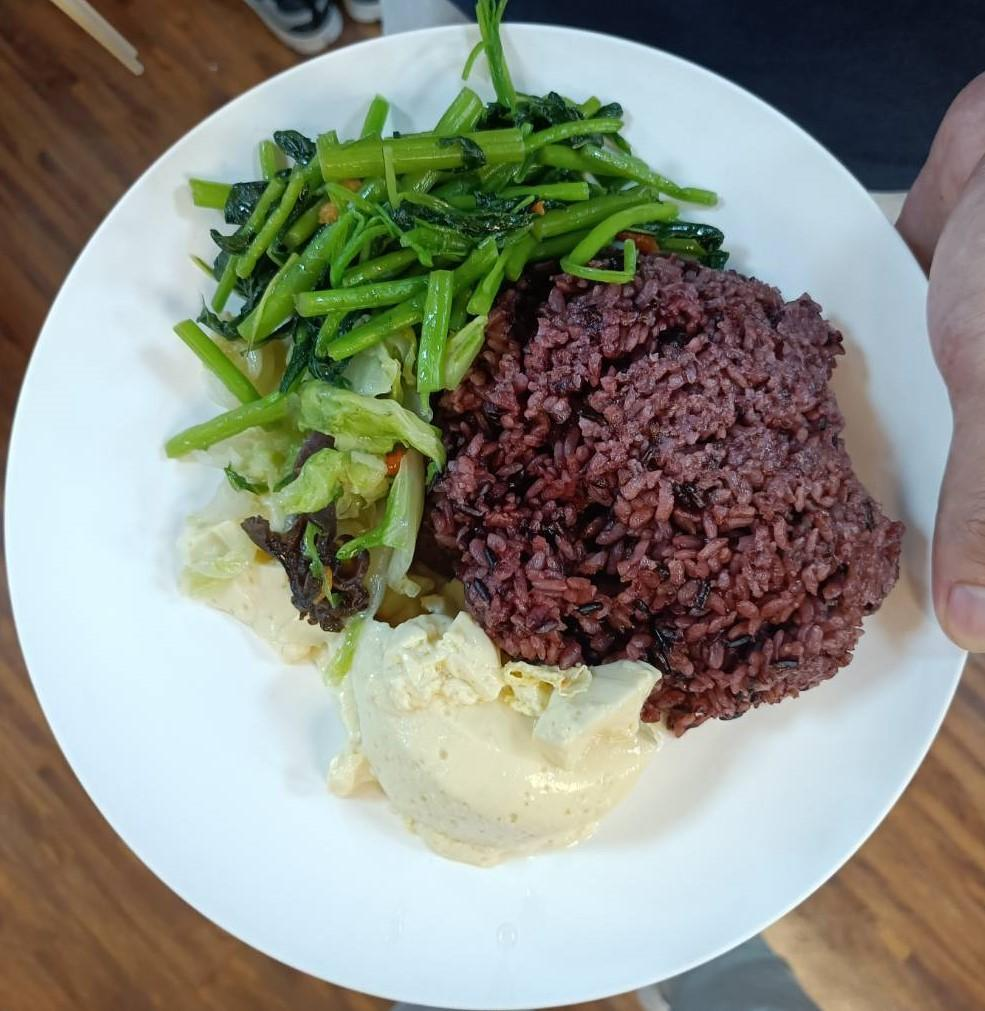big fried chicken leg: (10, 13, 984, 999)
braised fish: (396, 214, 893, 706)
braised fish fillet: (211, 72, 692, 356), (274, 609, 683, 848), (173, 310, 470, 633)
